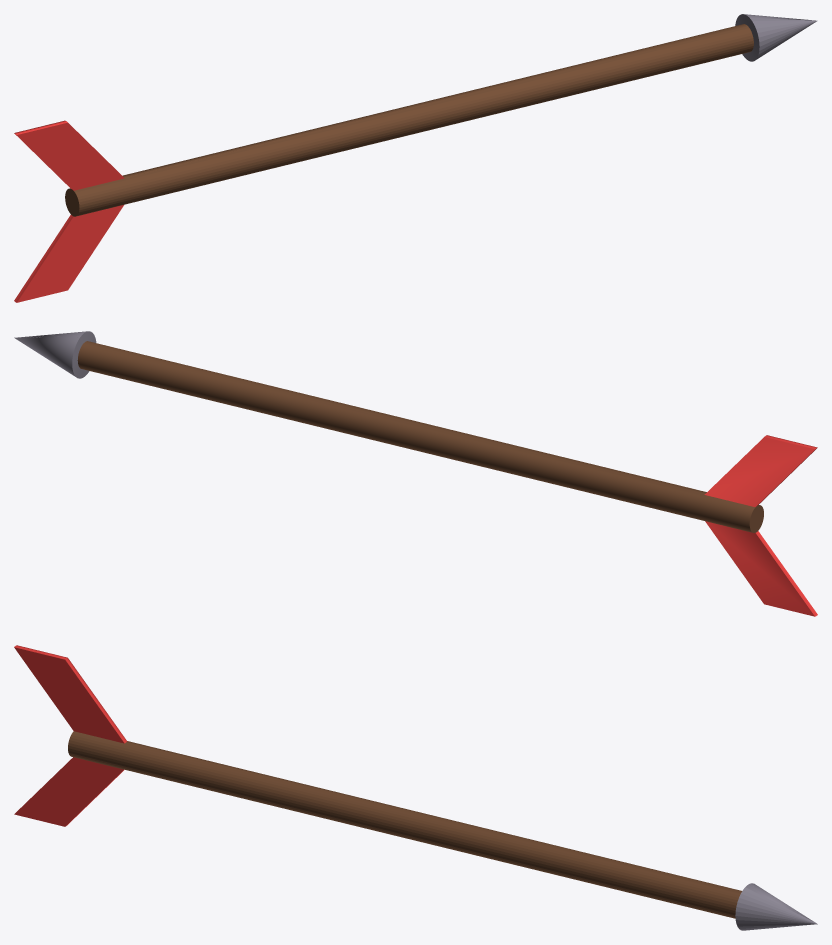
The model's file is Arrow.fbx.
3 renders of one model, top to bottom at view 1: azimuth 30°, elevation 25°; view 2: azimuth 150°, elevation 25°; view 3: azimuth 330°, elevation 25°, orthographic.
Parts seen in each view (by area): view 1: Cylinder; view 2: Cylinder; view 3: Cylinder.
Part boxes in pixels (x1,y1,x2,y2): Cylinder: (14,14,817,302); Cylinder: (14,331,817,616); Cylinder: (14,645,817,930).
Size of the model in its own units: 245 by 49.06 by 12.9.
